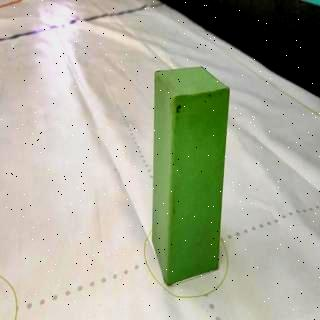greenbox: (150, 65, 231, 286)
